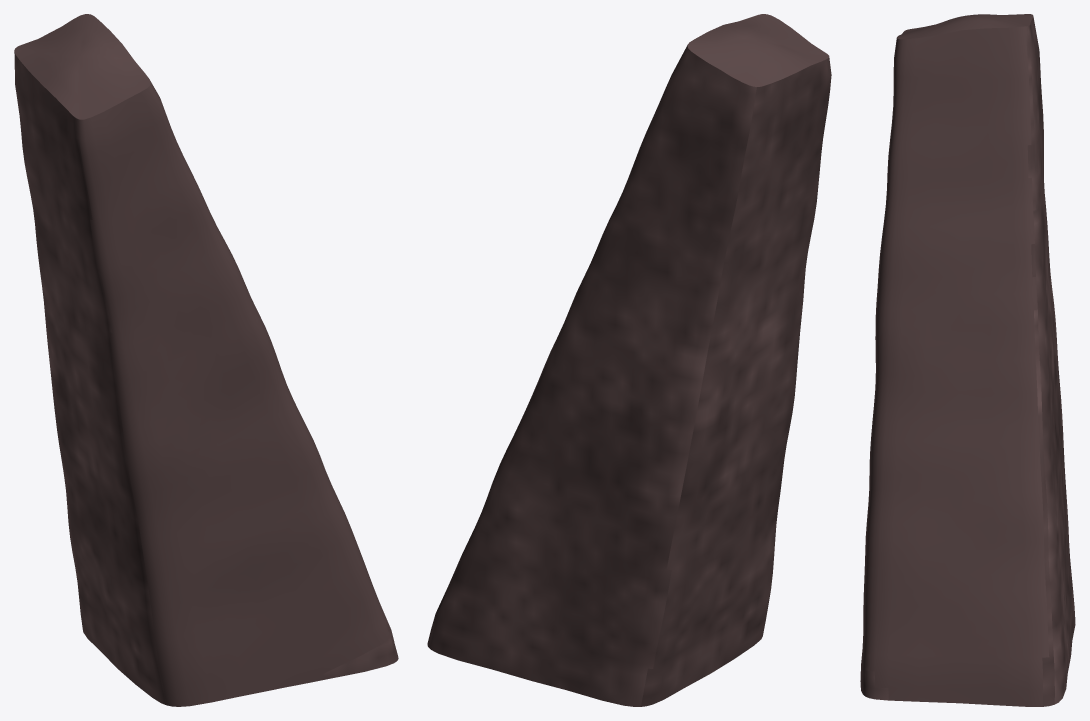
The model's file is TarHenge14.glb.
The picture shows the model from 3 angles, left to right: view 1: azimuth 30°, elevation 25°; view 2: azimuth 150°, elevation 25°; view 3: azimuth 270°, elevation 25°; orthographic projection. The views are drawn at different scales.
Visible parts, largest first — view 1: TarHenge14; view 2: TarHenge14; view 3: TarHenge14.
Boxes of the visible parts, bbox=[...] form: TarHenge14: bbox=[14, 14, 398, 706]; TarHenge14: bbox=[427, 14, 831, 706]; TarHenge14: bbox=[860, 14, 1075, 706].
Bounding box in the file's own units: 2 × 3.79 × 1.29.
2 materials, 1 textured.
